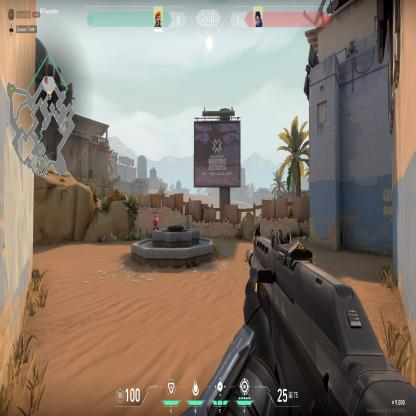enemy: (152, 211, 160, 231)
